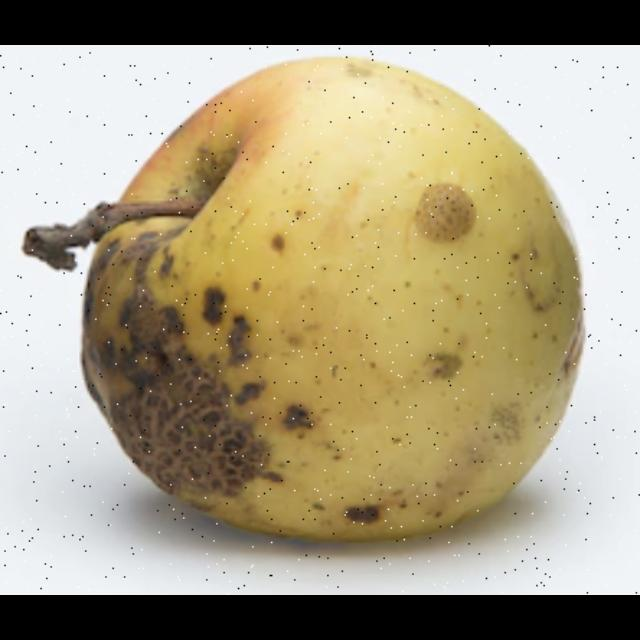Apel Tidak Segar: (71, 52, 594, 554)
